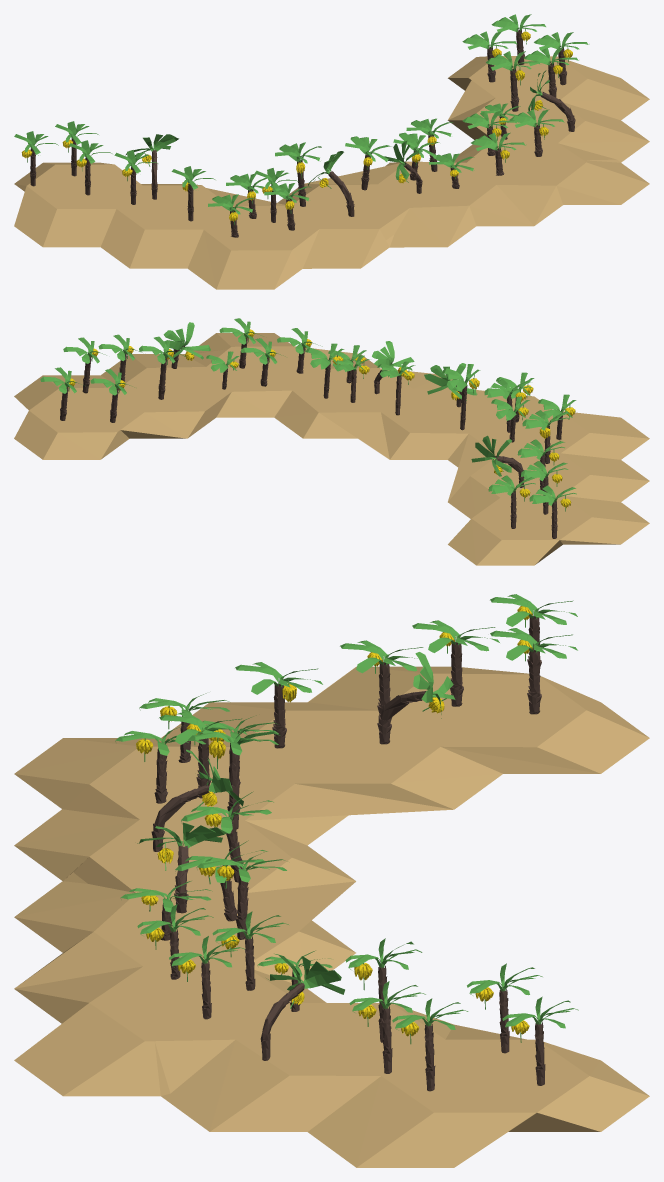
File: insel1.fbx
3 renders of one model, top to bottom at view 1: azimuth 30°, elevation 25°; view 2: azimuth 150°, elevation 25°; view 3: azimuth 270°, elevation 25°, orthographic. The views are drawn at different scales.
Visible parts, largest first — view 1: Landschaft, Blätter_6, Blätter_16, Blätter_26, Blätter_20, Blätter_24, Blätter_22, Blätter_12, Blätter_18, Blätter_50, Blätter_14, Blätter_4 (+4 smaller); view 2: Landschaft, Blätter_28, Blätter_48, Blätter_38, Blätter_50, Blätter_4, Blätter_30, Blätter_40, Blätter_34, Blätter_44, Blätter_46, Blätter_52 (+11 smaller); view 3: Landschaft, Blätter_28, Blätter_50, Stamm_40, Blätter_54, Blätter_44, Blätter_46, Blätter_48, Stamm_51, Blätter_42, Blätter_52, Stamm_29 (+1 smaller).
Part boxes in pixels (x1,y1,x2,y2): Landschaft: (14, 56, 649, 289); Blätter_6: (486, 51, 540, 70); Blätter_16: (462, 31, 517, 49); Blätter_26: (471, 132, 526, 150); Blätter_20: (491, 14, 545, 32); Blätter_24: (462, 110, 517, 128); Blätter_22: (509, 109, 564, 127); Blätter_12: (345, 136, 391, 162); Blätter_18: (524, 47, 578, 65); Blätter_50: (384, 140, 422, 179); Blätter_14: (534, 32, 589, 50); Blätter_4: (275, 142, 321, 163); Landschaft: (14, 333, 649, 565); Blätter_28: (163, 322, 210, 360); Blätter_48: (471, 435, 511, 476); Blätter_38: (424, 363, 477, 400); Blätter_50: (372, 341, 414, 377); Blätter_4: (442, 364, 480, 390); Blätter_30: (306, 343, 344, 369); Blätter_40: (484, 379, 531, 399); Blätter_34: (491, 396, 529, 420); Blätter_44: (488, 475, 535, 495); Blätter_46: (529, 485, 576, 505); Blätter_52: (517, 439, 564, 459); Landschaft: (14, 666, 649, 1167); Blätter_28: (266, 953, 344, 994); Blätter_50: (137, 822, 226, 847); Stamm_40: (151, 785, 209, 851); Blätter_54: (235, 662, 322, 694); Blätter_44: (490, 628, 577, 660); Blätter_46: (490, 594, 577, 626); Blätter_48: (413, 652, 455, 718); Stamm_51: (377, 691, 425, 744); Blätter_42: (412, 620, 499, 652); Blätter_52: (340, 640, 423, 673); Stamm_29: (260, 983, 304, 1060).
Size of the model in its own units: 21256 by 2372 by 11395.
4 materials, 3 textured.
